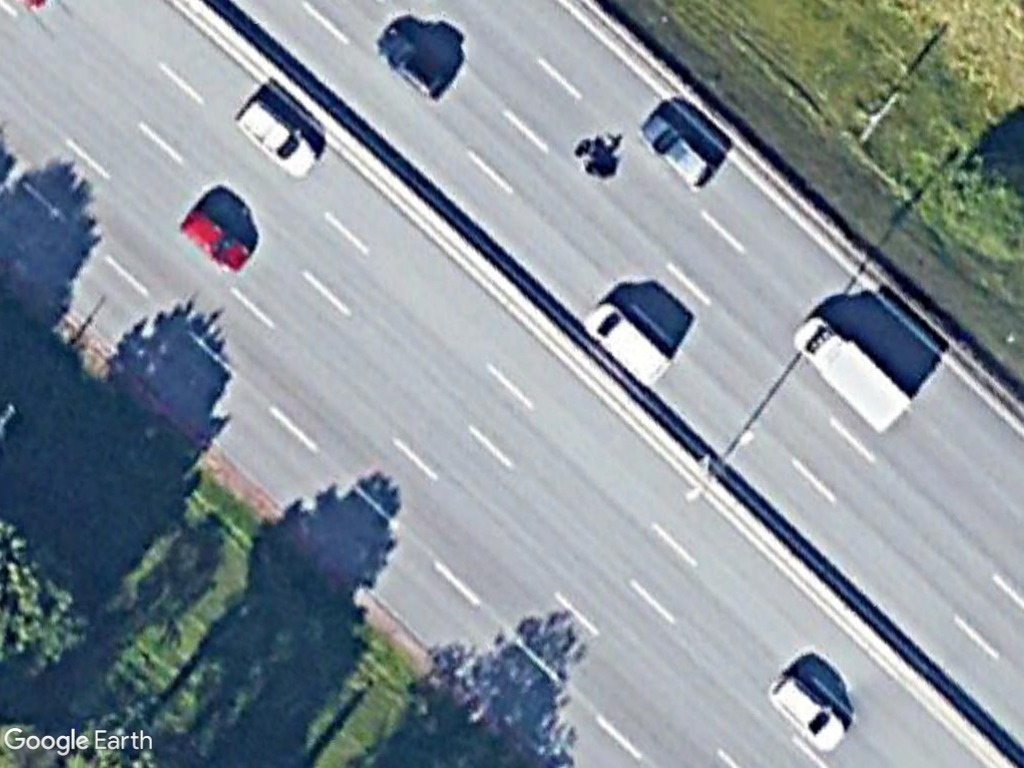car: (634, 110, 721, 196), (767, 672, 851, 759), (372, 24, 459, 107), (178, 208, 254, 276)
van: (792, 312, 916, 440), (582, 300, 676, 387), (233, 97, 324, 180)
